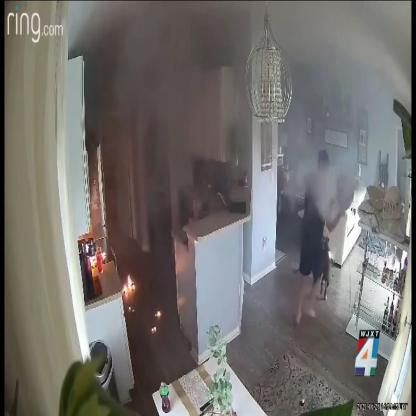fire: (123, 274, 135, 293), (155, 310, 160, 316), (152, 326, 156, 333)
